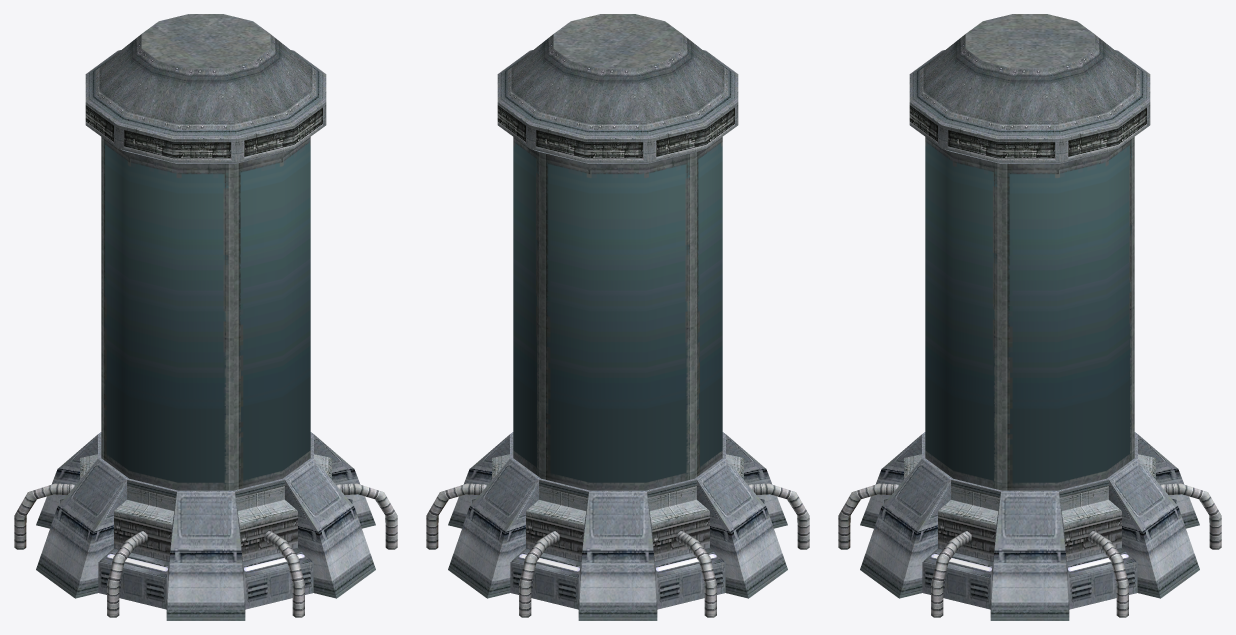
File: eqp_bacta_tank_lg_l0.fbx
The picture shows the model from 3 angles, left to right: view 1: azimuth 30°, elevation 25°; view 2: azimuth 150°, elevation 25°; view 3: azimuth 270°, elevation 25°; orthographic projection.
Visible parts, largest first — view 1: mesh_node; view 2: mesh_node; view 3: mesh_node.
Part boxes in pixels (x1,y1,x2,y2): mesh_node: (14, 14, 397, 620); mesh_node: (426, 14, 809, 620); mesh_node: (838, 14, 1221, 620).
Bounding box in the file's own units: 3.11 × 5 × 3.43.
